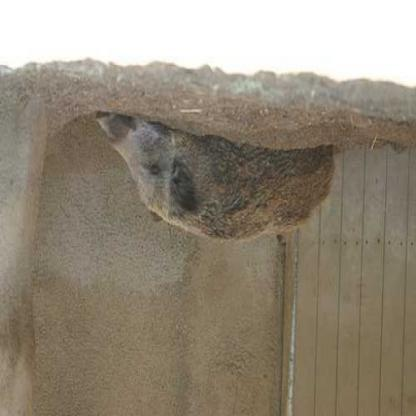boar: (98, 90, 395, 277)
